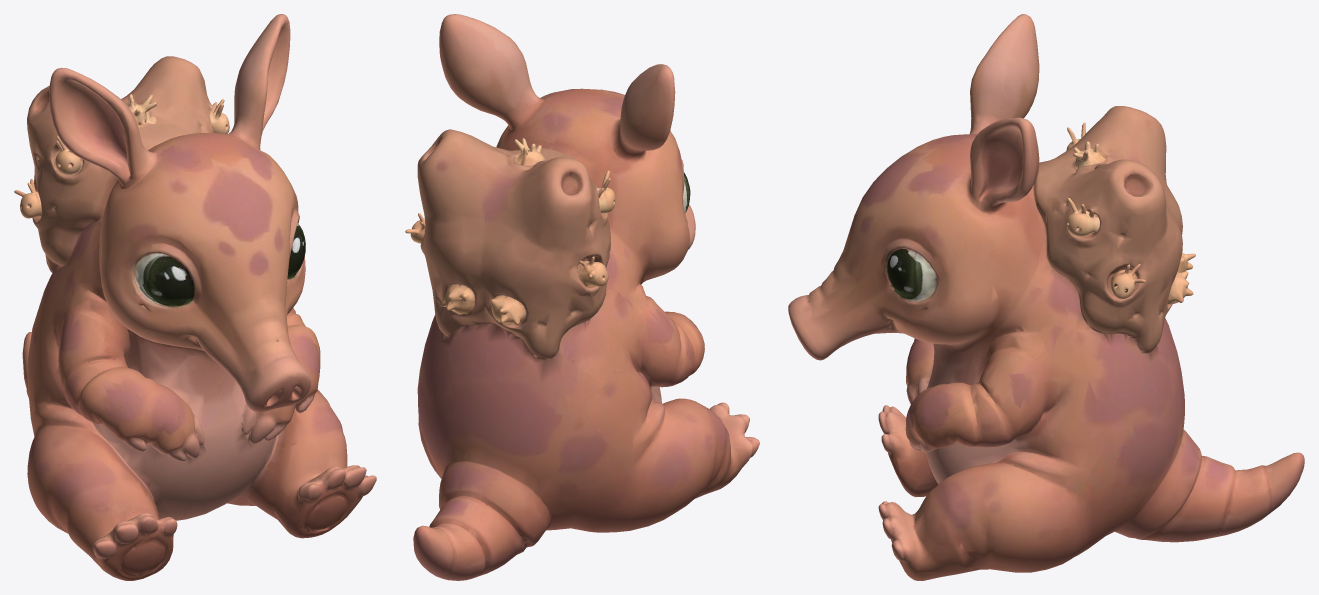
3 views of the same model, side by side, from view 1: azimuth 30°, elevation 25°; view 2: azimuth 150°, elevation 25°; view 3: azimuth 270°, elevation 25° (orthographic). The views are drawn at different scales.
Parts seen in each view (by area): view 1: Mesh_0; view 2: Mesh_0; view 3: Mesh_0.
Part boxes in pixels (box(x1,y1,x2,y2)): Mesh_0: box(14, 14, 376, 580); Mesh_0: box(405, 14, 759, 580); Mesh_0: box(788, 14, 1304, 580).
Bounding box in the file's own units: 1.2 × 1.9 × 1.9.
Materials: 1 (1 with a texture image).
